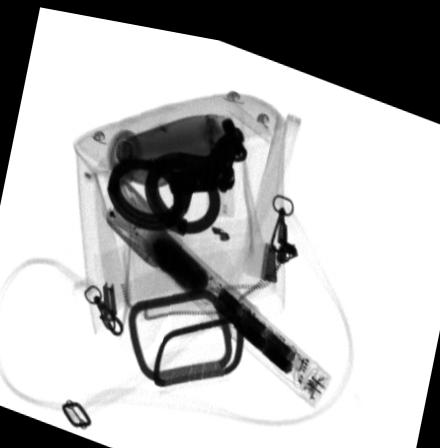Baton: (104, 171, 332, 398)
HandCuffs: (104, 108, 247, 228)
Lighter: (212, 131, 233, 208)
